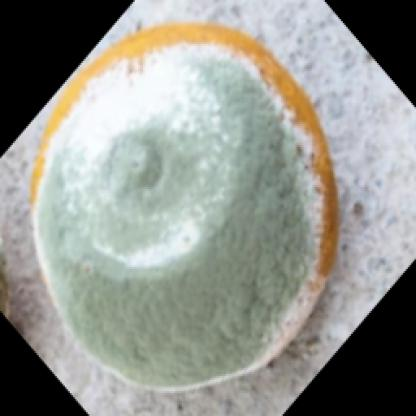rotten: (30, 24, 339, 397)
